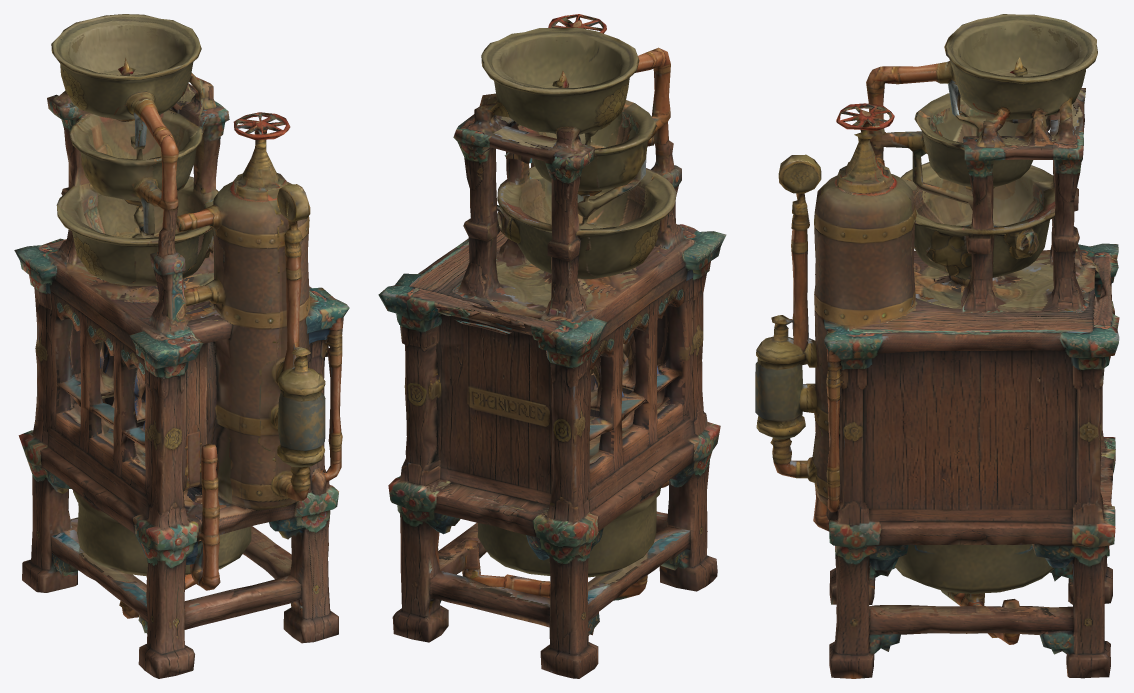
Rendered from PR_Jagyeongnu.fbx.
3 renders of one model, left to right at view 1: azimuth 30°, elevation 25°; view 2: azimuth 150°, elevation 25°; view 3: azimuth 270°, elevation 25°, orthographic. The views are drawn at different scales.
Parts seen in each view (by area): view 1: texture_mapping; view 2: texture_mapping; view 3: texture_mapping.
Boxes of the visible parts, x1=… form: texture_mapping: x1=14, y1=14, x2=349, y2=678; texture_mapping: x1=378, y1=14, x2=726, y2=678; texture_mapping: x1=755, y1=14, x2=1119, y2=678.
Size of the model in its own units: 0.3959 by 0.5769 by 1.
Materials: 1 (1 with a texture image).
